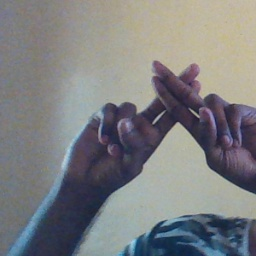F: (121, 54, 231, 163)
